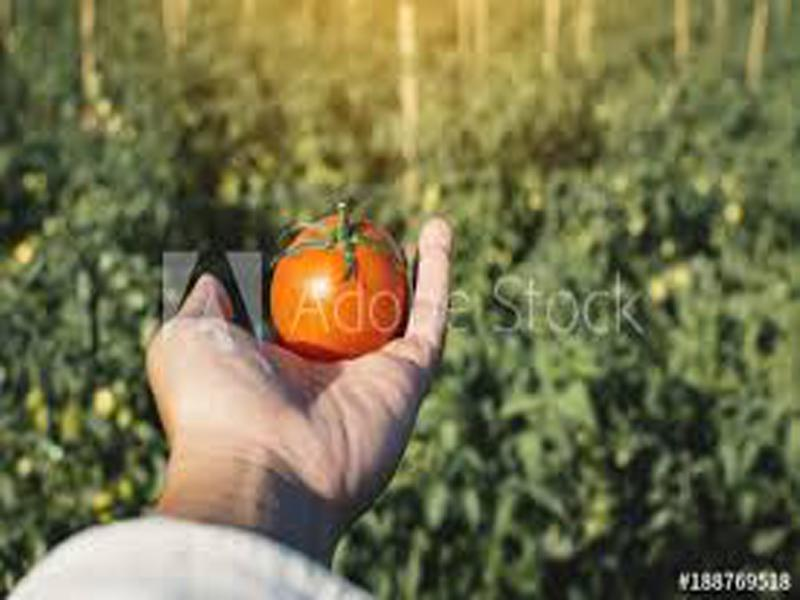Tomato: (273, 216, 410, 354)
